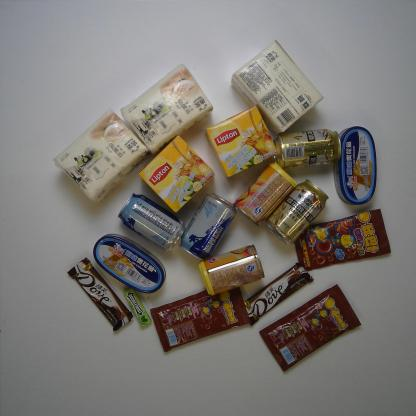Alcohol: (264, 178, 328, 245), (180, 193, 237, 263), (119, 193, 185, 250), (277, 127, 344, 169)
Candy: (258, 284, 362, 374), (150, 285, 252, 353), (294, 206, 393, 274)
Canned Food: (93, 232, 165, 295), (236, 162, 298, 226), (198, 242, 266, 297), (335, 126, 377, 206)
Chocolate: (66, 257, 131, 331), (244, 260, 314, 326)
Gum: (122, 285, 154, 328)
Instant Drink: (205, 104, 279, 180), (138, 133, 209, 211)
Tissue: (230, 39, 324, 137), (52, 110, 151, 202), (120, 63, 215, 156)
